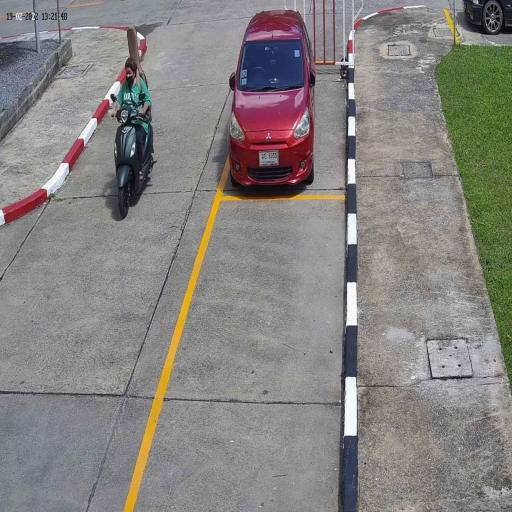car: (228, 8, 316, 189)
motorcycle: (112, 106, 154, 219)
